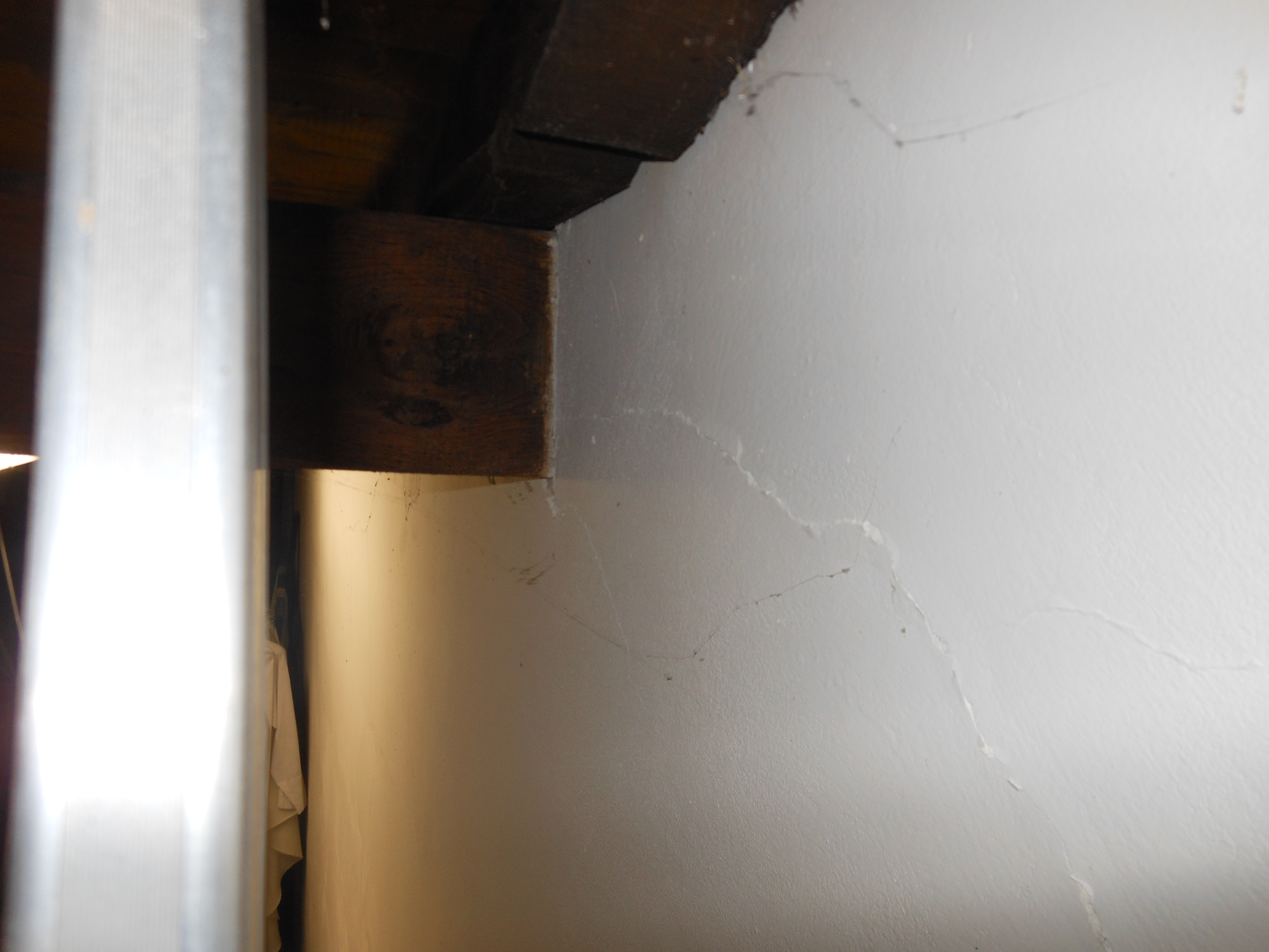Crack: (516, 407, 1225, 938), (736, 48, 1144, 176)
